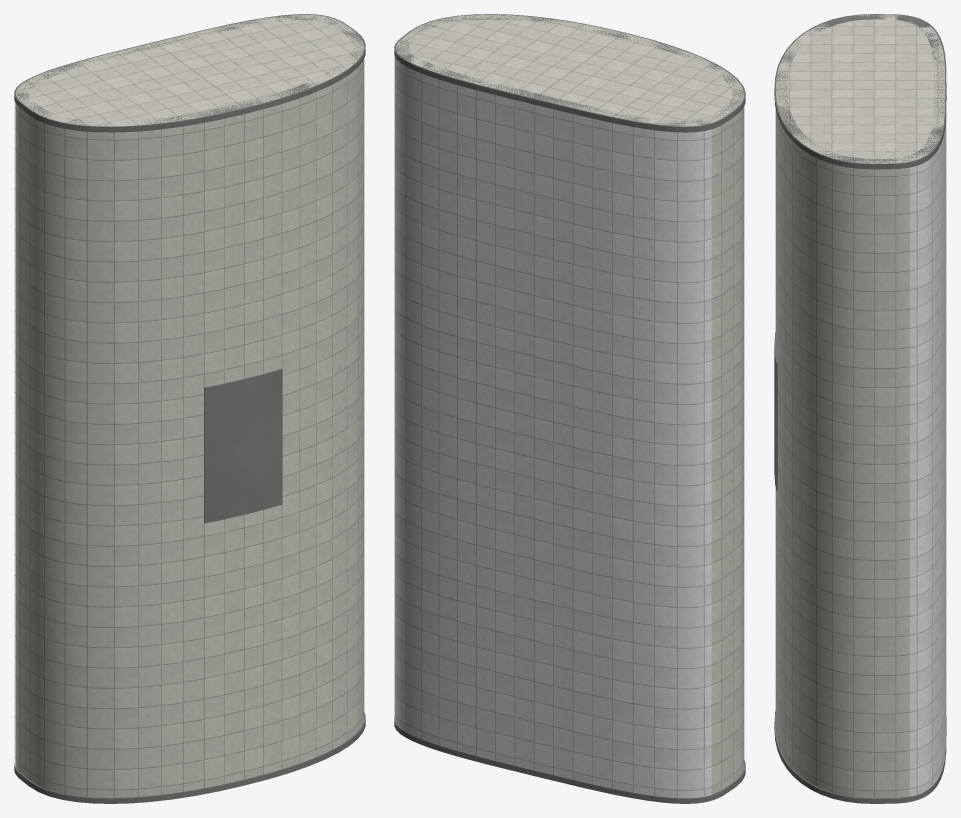
Rendered from aero00_mk2_fuselage_tank_500.glb.
3 renders of one model, left to right at view 1: azimuth 30°, elevation 25°; view 2: azimuth 150°, elevation 25°; view 3: azimuth 270°, elevation 25°, orthographic. The views are drawn at different scales.
Parts seen in each view (by area): view 1: fuselage, fill_panel, end_frames, belly_tiles; view 2: belly_tiles, fuselage, end_frames; view 3: fuselage, belly_tiles, end_frames, fill_panel.
Boxes of the visible parts, <box> form: fuselage: <box>16,14,364,797</box>; fill_panel: <box>204,368,282,523</box>; end_frames: <box>14,14,365,803</box>; belly_tiles: <box>14,102,15,765</box>; belly_tiles: <box>394,56,711,798</box>; fuselage: <box>396,14,744,794</box>; end_frames: <box>394,14,745,803</box>; fuselage: <box>775,14,945,798</box>; belly_tiles: <box>910,119,946,796</box>; end_frames: <box>774,14,946,803</box>; fill_panel: <box>774,332,777,490</box>.
Size of the model in its own units: 2.52 by 5 by 1.22.
Materials: 3 (3 with a texture image).
